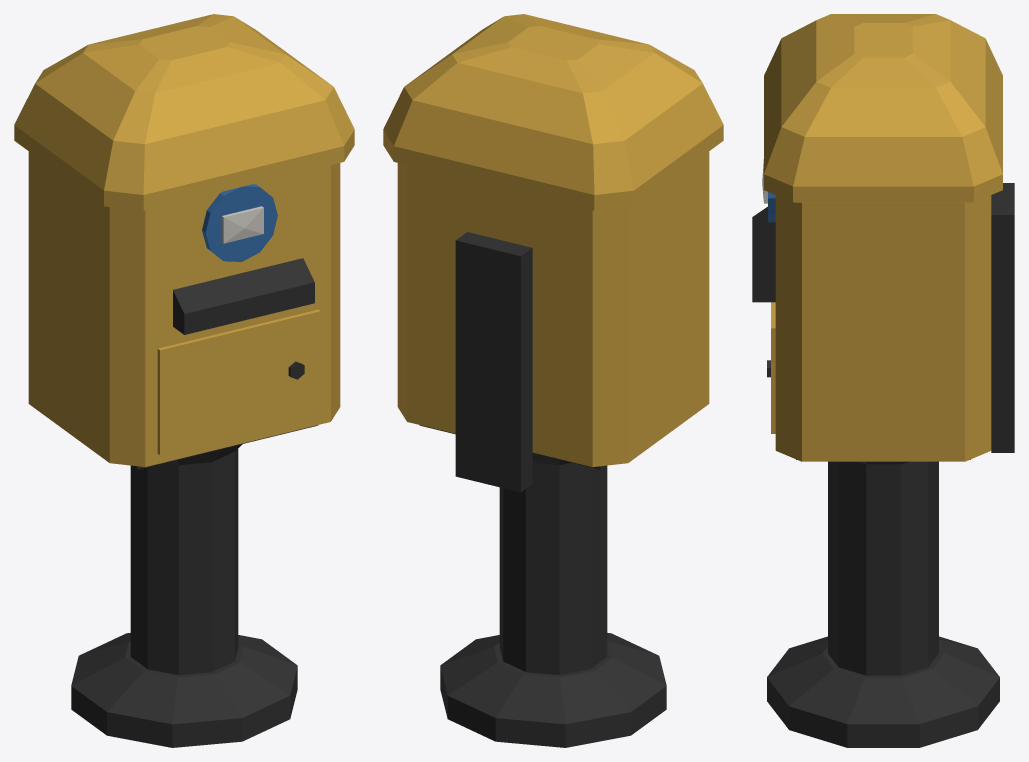
Rendered from posta_kutusu.glb.
3 views of the same model, side by side, from view 1: azimuth 30°, elevation 25°; view 2: azimuth 150°, elevation 25°; view 3: azimuth 270°, elevation 25° (orthographic).
Visible parts, largest first — view 1: posta_kutusu; view 2: posta_kutusu; view 3: posta_kutusu.
Part boxes in pixels (x1,y1,x2,y2): posta_kutusu: (14, 14, 354, 747); posta_kutusu: (383, 14, 723, 747); posta_kutusu: (752, 14, 1014, 747).
Size of the model in its own units: 0.5 by 1.25 by 0.45.
